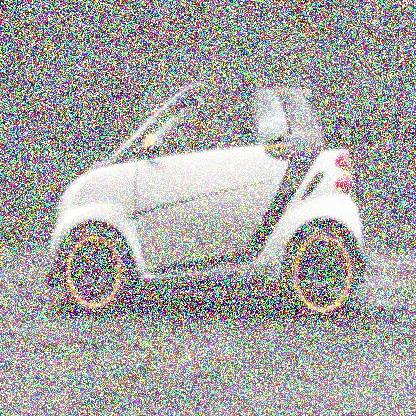Vehicle: (44, 76, 368, 319)
